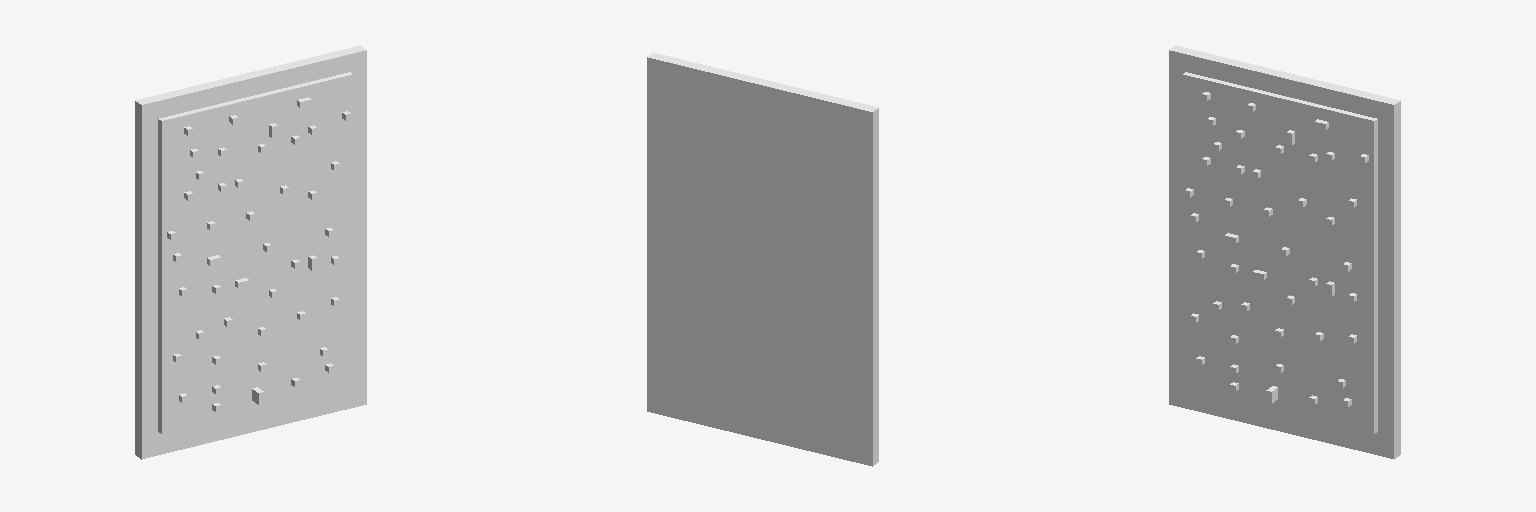
File: poptart.obj
3 renders of one model, left to right at view 1: azimuth 30°, elevation 25°; view 2: azimuth 150°, elevation 25°; view 3: azimuth 330°, elevation 25°, orthographic.
Visible parts, largest first — view 1: object 1; view 2: object 1; view 3: object 1.
Boxes of the visible parts, <box> form: object 1: <box>135,45,366,459</box>; object 1: <box>647,52,878,466</box>; object 1: <box>1169,45,1400,459</box>.
Size of the model in its own units: 4 by 6 by 0.5.